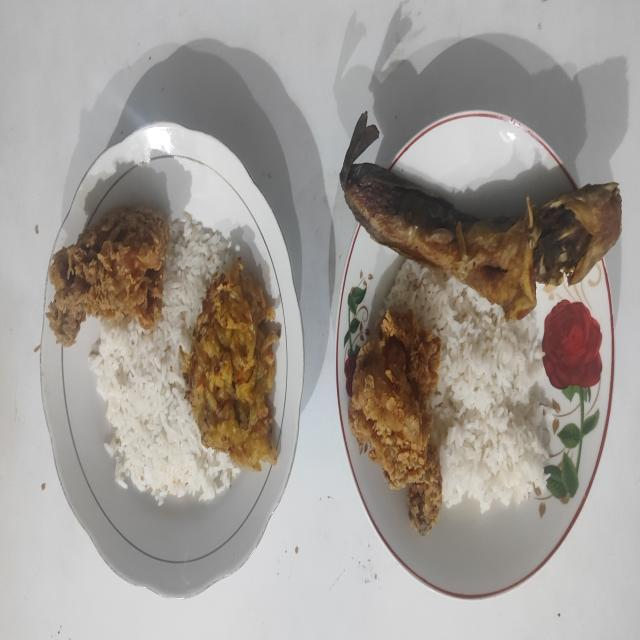nasi_putih: (89, 215, 240, 504), (384, 260, 548, 513)
